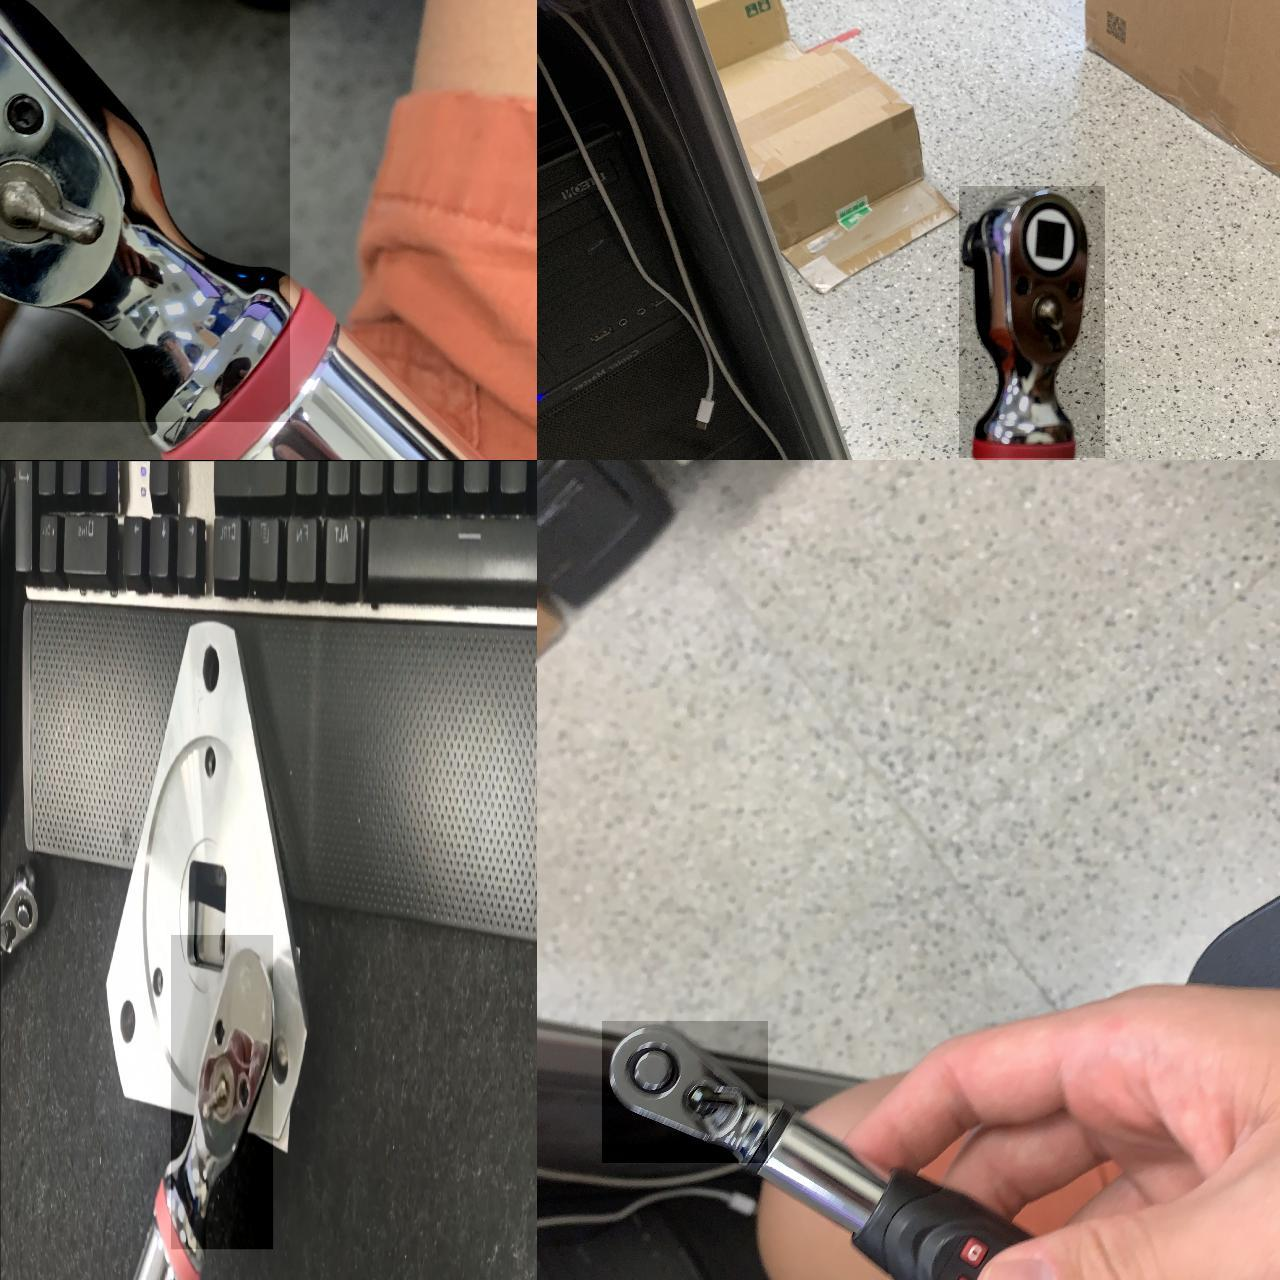Tool: (0, 0, 290, 421), (958, 185, 1104, 457), (170, 933, 273, 1248), (601, 1020, 767, 1162), (0, 1021, 48, 1149)
